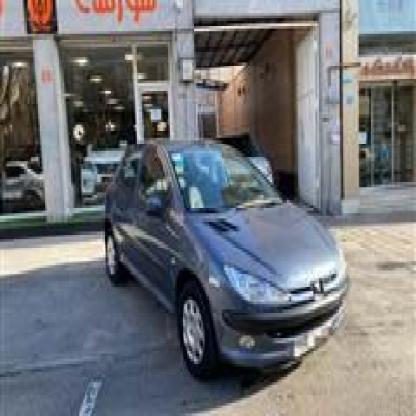Car: (97, 143, 354, 387), (83, 127, 149, 226)
